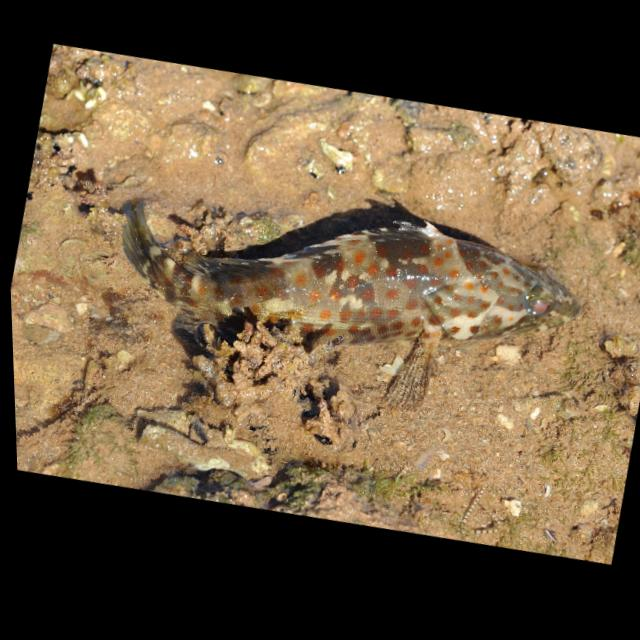Groupers: (102, 153, 577, 403)
